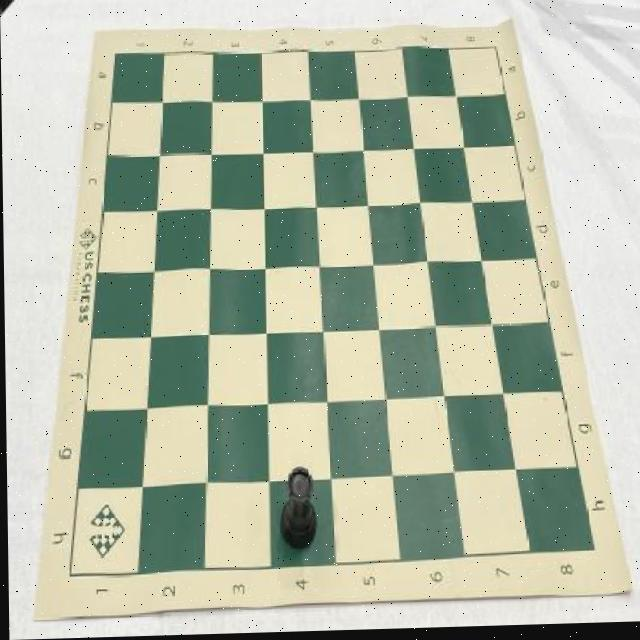black-queen: (276, 468, 318, 553)
